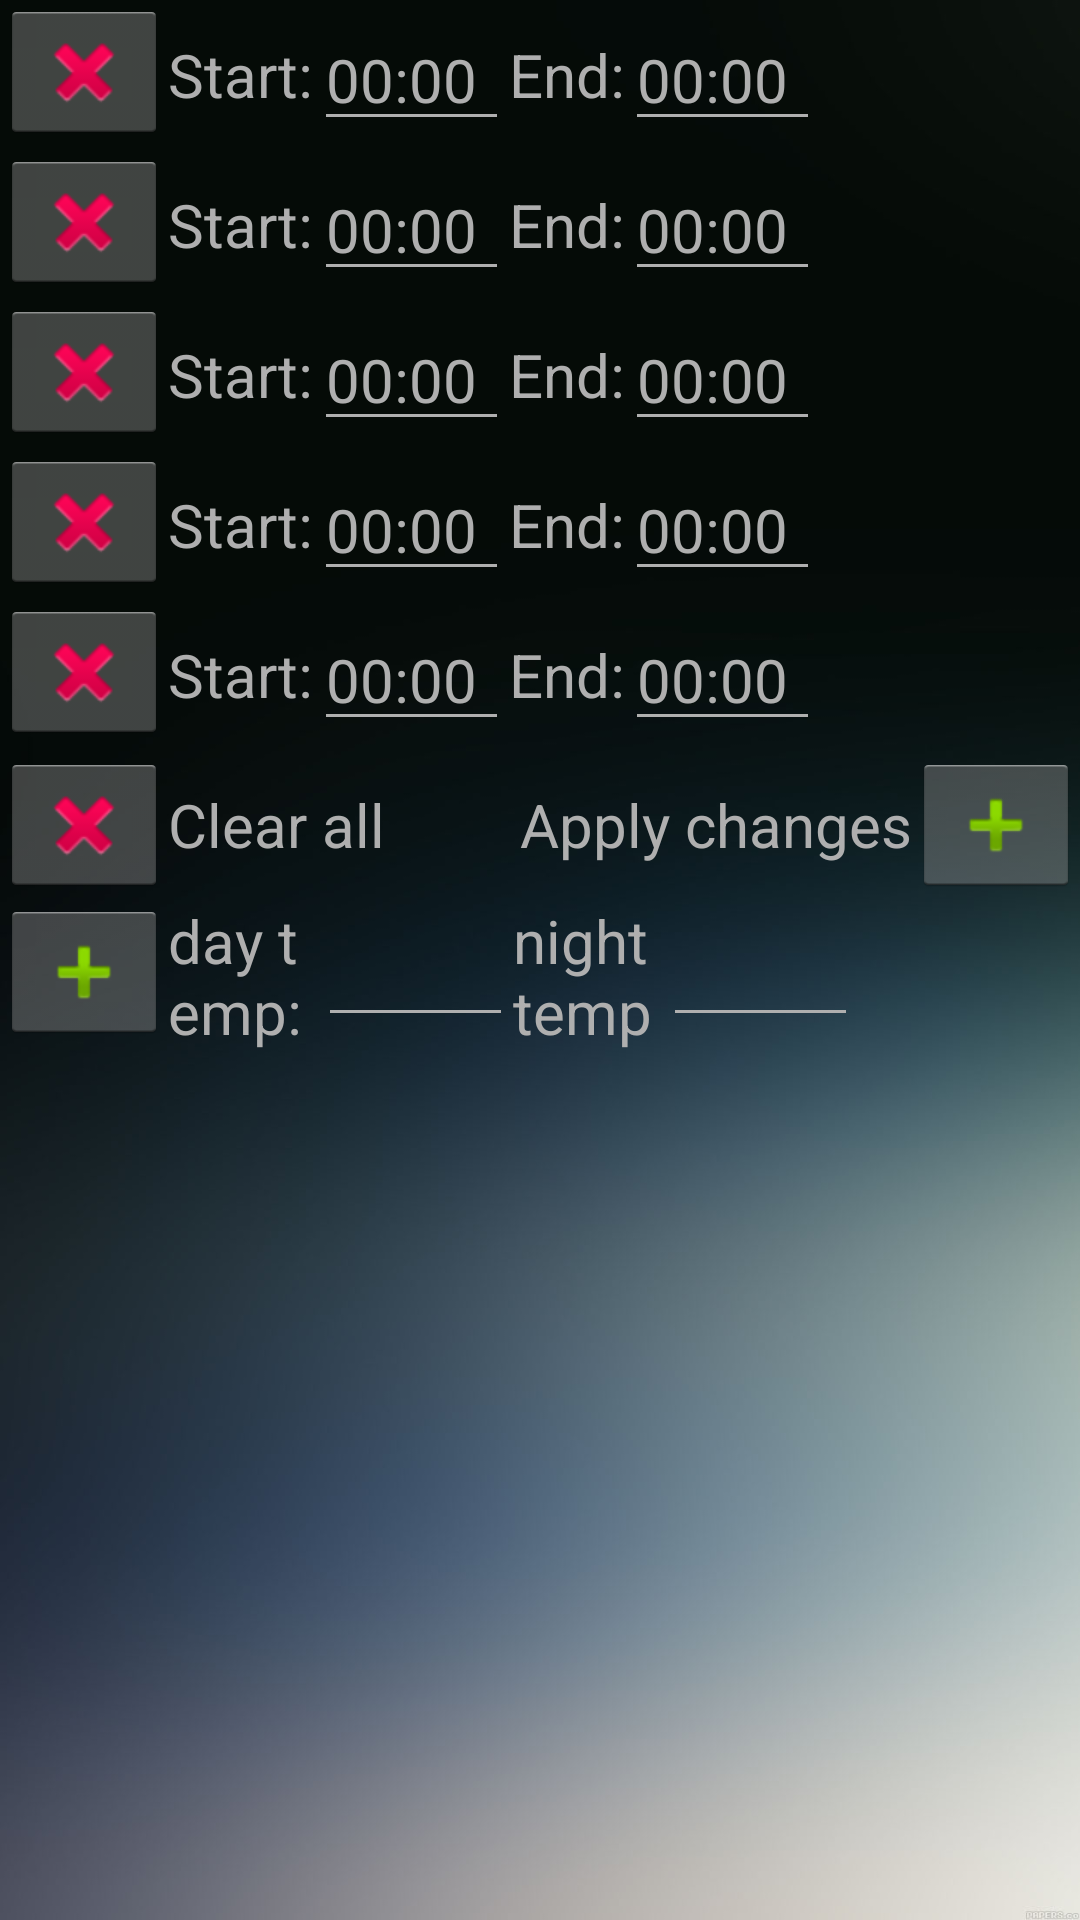

Locate icon controls on the screen. Image size 1080×1920, boxes as region(x1, y1, x2, y2).
add: region(924, 765, 1068, 885), region(12, 912, 156, 1032)
delete: region(12, 12, 156, 132), region(12, 162, 156, 282), region(12, 312, 156, 432), region(12, 462, 156, 582), region(12, 612, 156, 732), region(12, 765, 156, 885)
